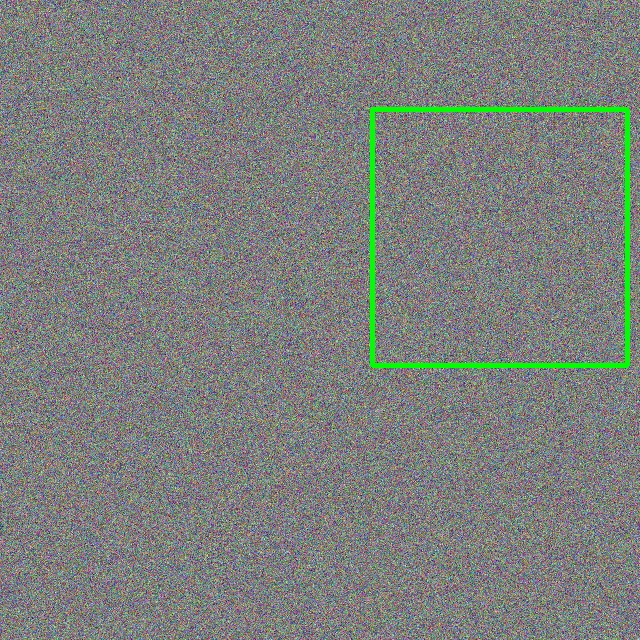base: (372, 109, 627, 365)
